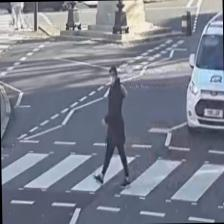person: (90, 64, 130, 186)
